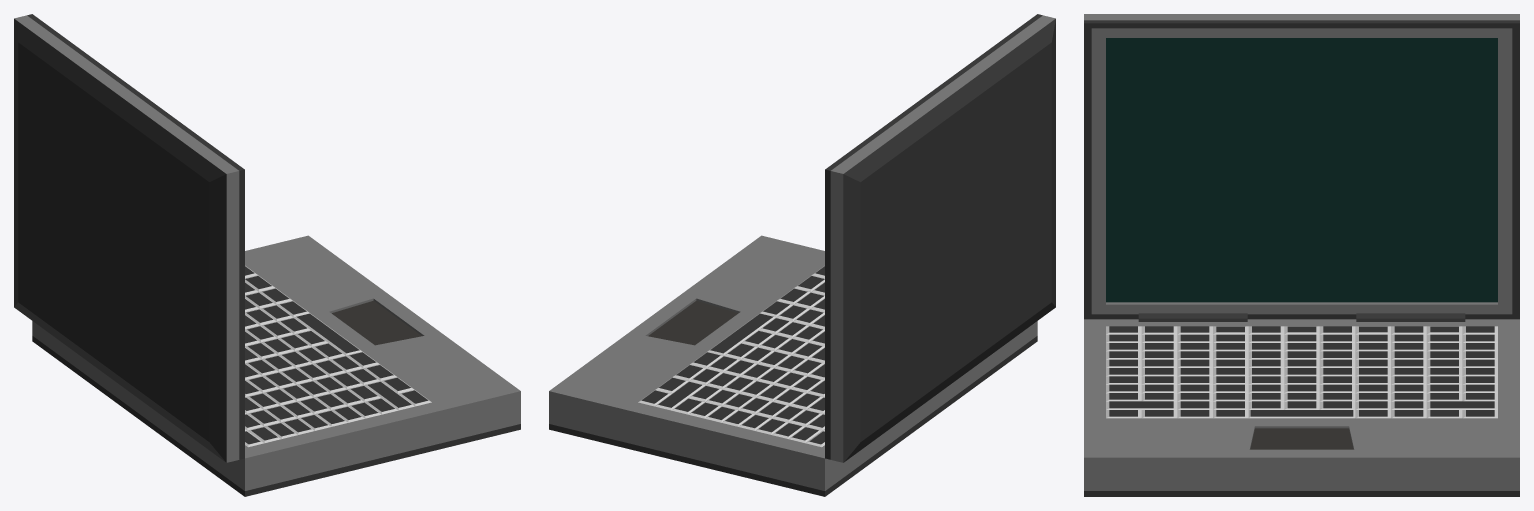
Rendered from Laptop.fbx.
3 views of the same model, side by side, from view 1: azimuth 30°, elevation 25°; view 2: azimuth 150°, elevation 25°; view 3: azimuth 270°, elevation 25° (orthographic). The views are drawn at different scales.
Parts seen in each view (by area): view 1: Laptop Screen, Laptop; view 2: Laptop Screen, Laptop; view 3: Laptop Screen, Laptop.
Part boxes in pixels (x1,y1,x2,y2): Laptop Screen: (14,14,244,462); Laptop: (32,235,520,496); Laptop Screen: (825,14,1055,462); Laptop: (549,235,1037,496); Laptop Screen: (1084,14,1519,319); Laptop: (1084,313,1519,496).
Bounding box in the file's own units: 327 × 340 × 400.
